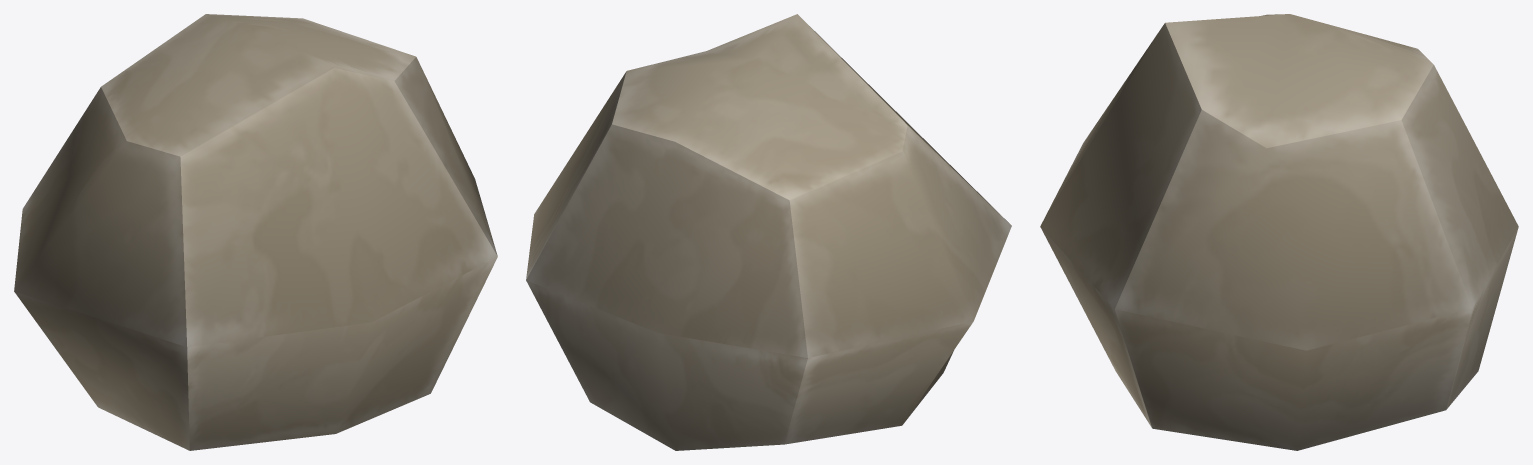
File: SmallStone4.FBX
3 views of the same model, side by side, from view 1: azimuth 30°, elevation 25°; view 2: azimuth 150°, elevation 25°; view 3: azimuth 270°, elevation 25° (orthographic). The views are drawn at different scales.
Parts seen in each view (by area): view 1: SmallStone4; view 2: SmallStone4; view 3: SmallStone4.
Boxes of the visible parts, x1=… form: SmallStone4: x1=14, y1=14, x2=497, y2=450; SmallStone4: x1=526, y1=14, x2=1011, y2=450; SmallStone4: x1=1040, y1=14, x2=1518, y2=450.
Size of the model in its own units: 24.69 by 20.45 by 21.19.
